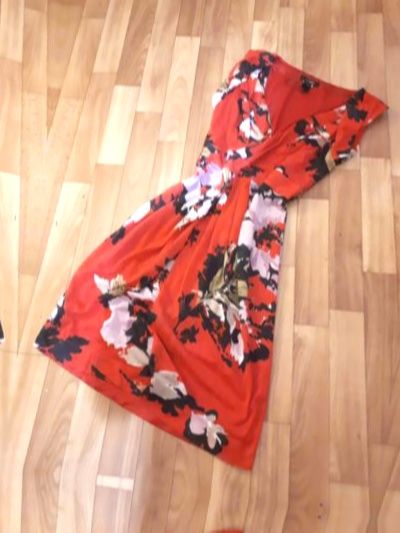Dress: (17, 7, 400, 484), (0, 0, 54, 434), (0, 500, 347, 533)
